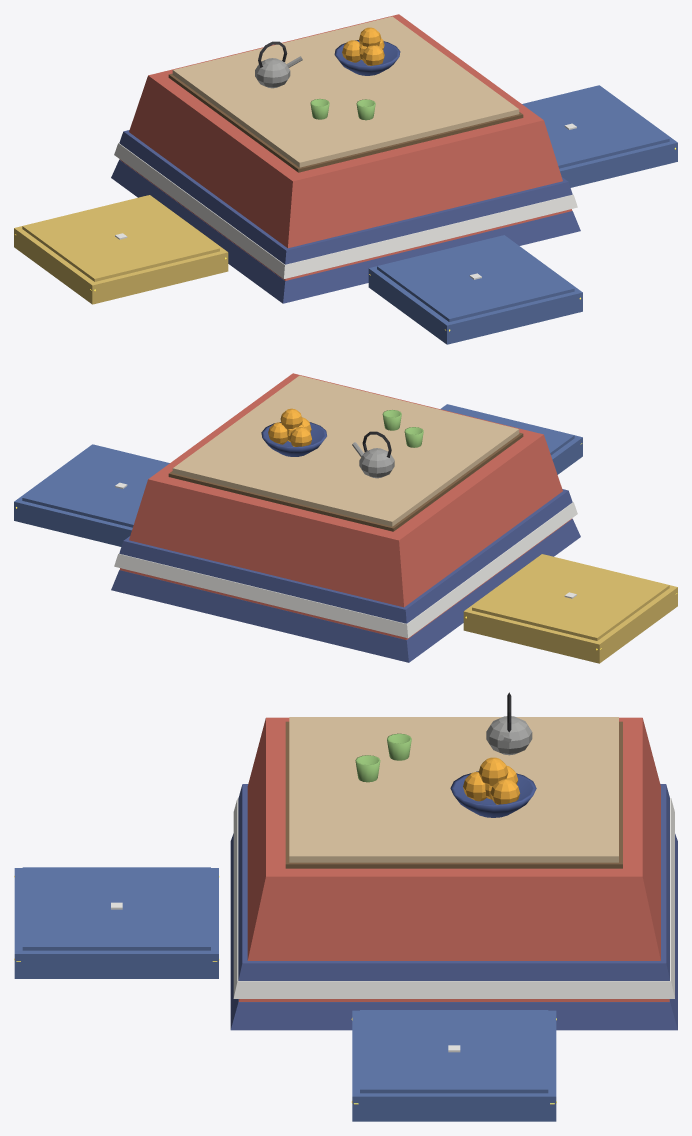
The model's file is jp_kotatsu.glb.
3 views of the same model, one above another, from view 1: azimuth 30°, elevation 25°; view 2: azimuth 150°, elevation 25°; view 3: azimuth 270°, elevation 25° (orthographic). The views are drawn at different scales.
Parts seen in each view (by area): view 1: jp_kotatsu; view 2: jp_kotatsu; view 3: jp_kotatsu.
Part boxes in pixels (<box>): jp_kotatsu: <box>14,14,677,344</box>; jp_kotatsu: <box>14,373,677,663</box>; jp_kotatsu: <box>14,692,677,1121</box>.
Size of the model in its own units: 2.24 by 0.586 by 1.69.
